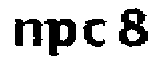8: (117, 6, 148, 50)
c: (81, 17, 109, 50)
m: (9, 16, 53, 47)
p: (47, 14, 78, 60)
